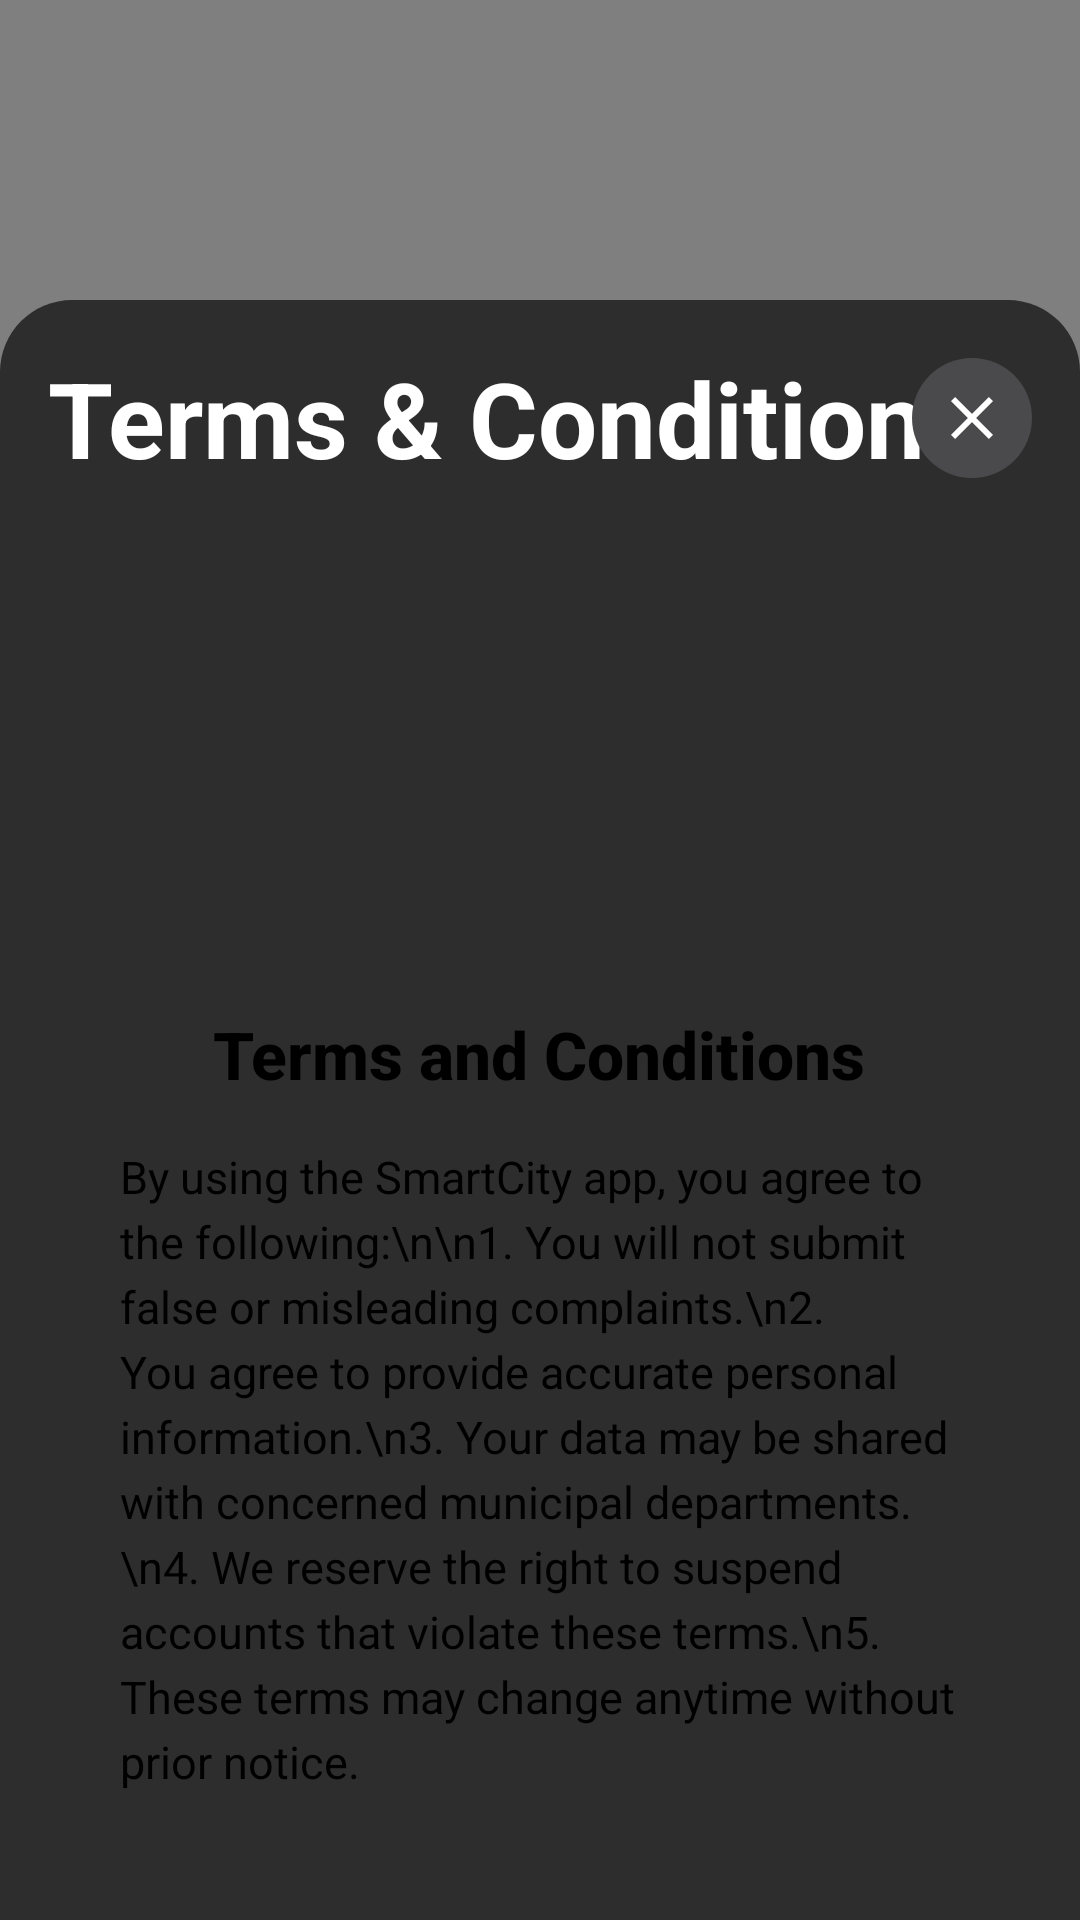

Icon click points for this 1080x1920 phone screenshot, format point (x, y):
Close: point (972, 418)
